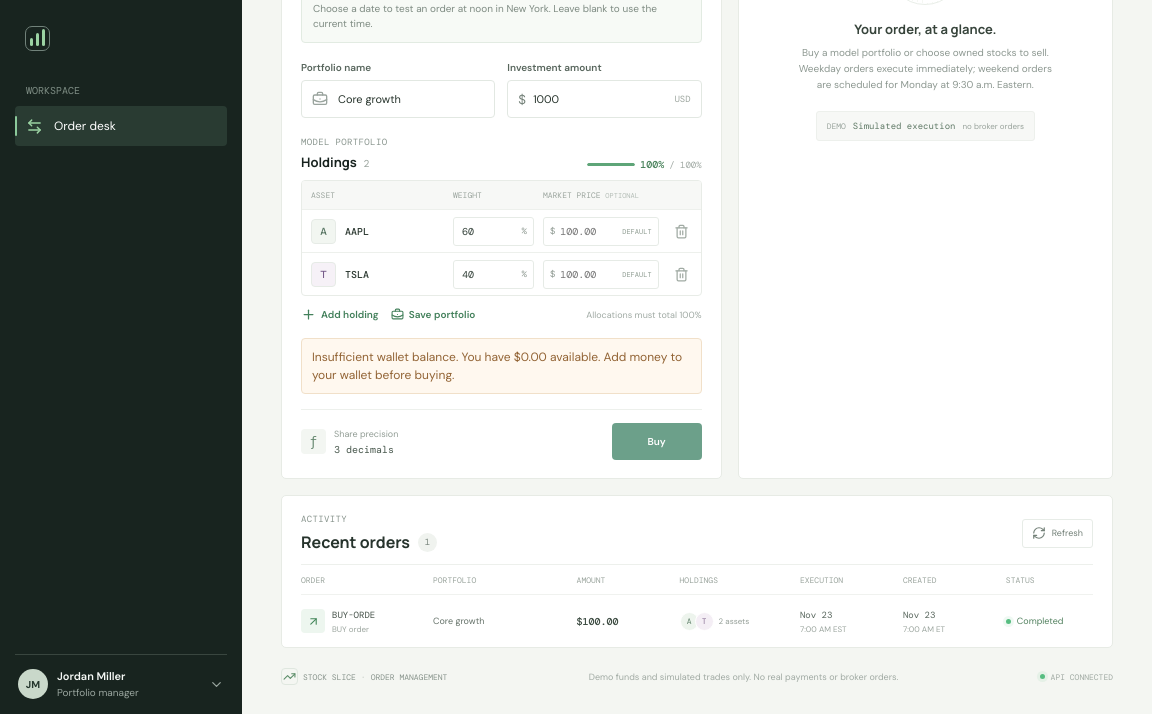
Test: order desk › keeps completed orders marked completed in history and the preview
(page scrolled)
Expected: the text "Completed" is shown, 1006,615 -> 1063,627
Click the button "BUY order": [697, 620] box 301,594 -> 1093,647
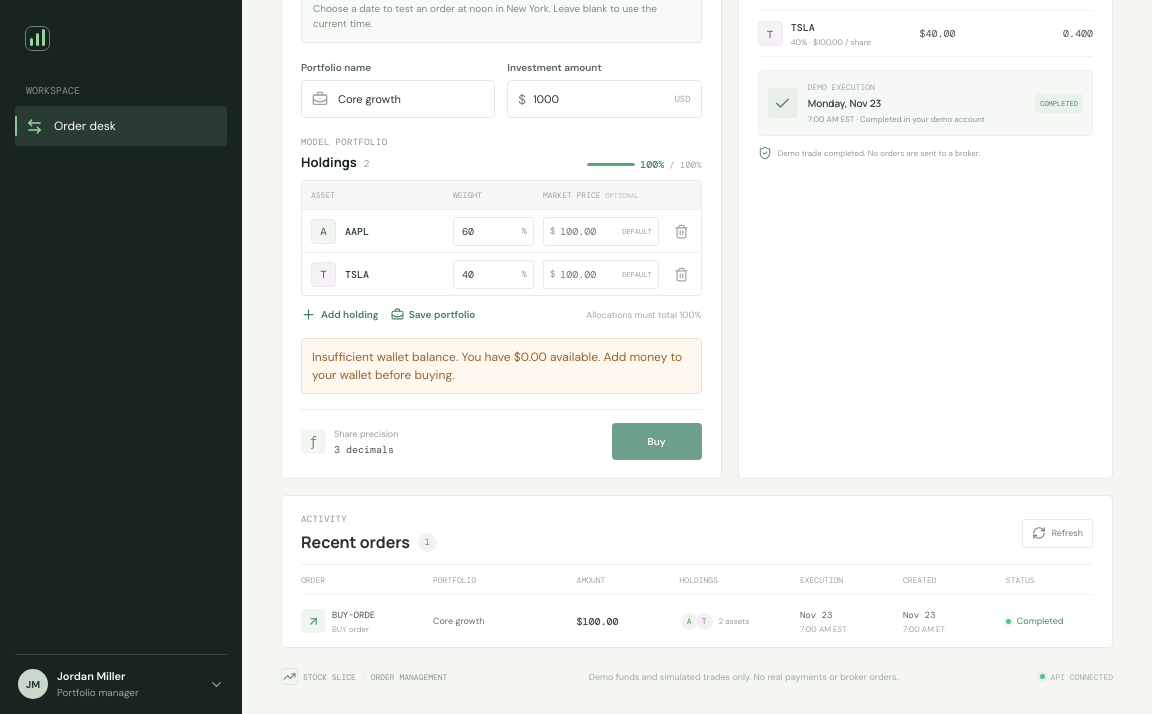
Expected: the element "DEMO EXECUTION" shows "Monday, Nov 23", 808,96 -> 881,110
Expected: the element "DEMO EXECUTION" shows "7:00 AM EST · Completed in your demo account", 758,70 -> 1093,136
Expected: the element "DEMO EXECUTION" shows "Completed", 1040,98 -> 1078,108
